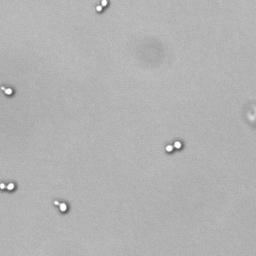budding: (162, 138, 186, 154), (49, 198, 73, 214), (93, 1, 113, 14), (1, 178, 18, 193), (1, 82, 17, 97)
